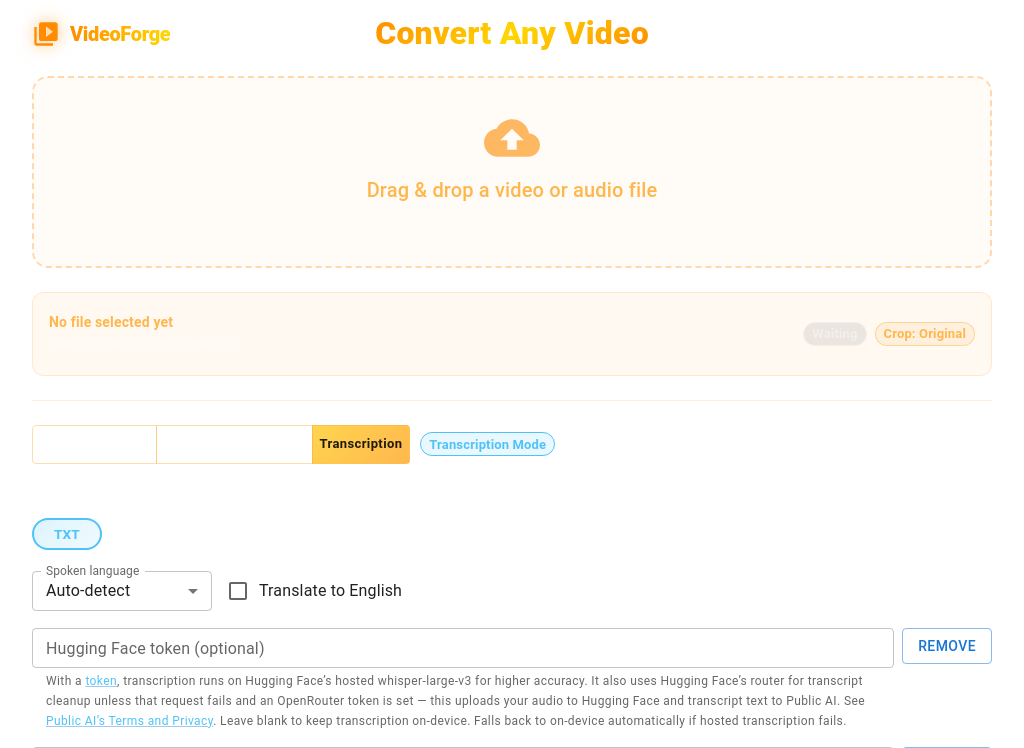
Test case: ConverterCard › transcription mode › activates a Hugging Face token only after the Add check succeeds
Type "hf_new" into the password field labelled "Hugging Face token (optional)" at (463, 648), box [32,628,894,668]
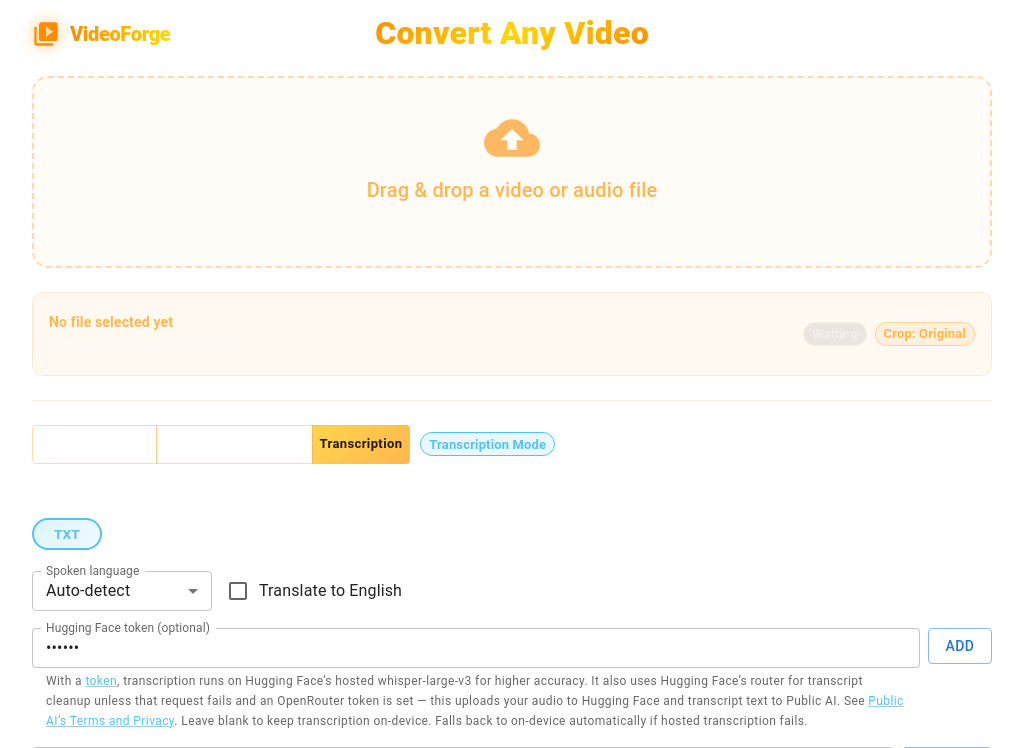
Click the button with test id "add-hf-token-button" at (960, 646), box [928,628,992,664]
(page scrolled)
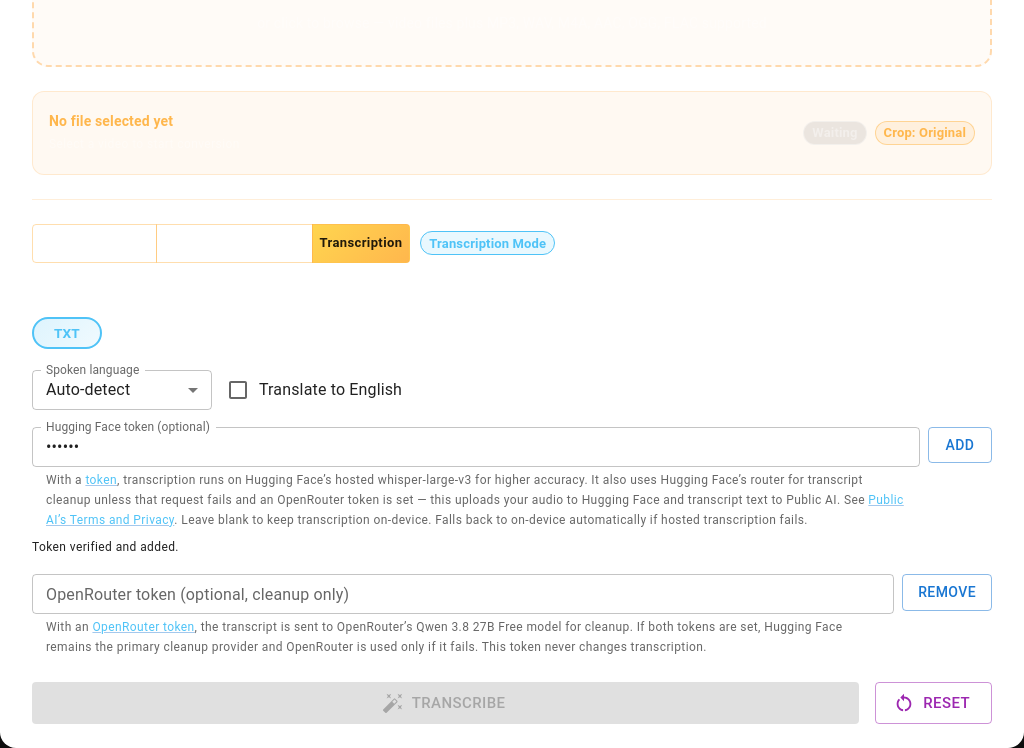
Now the text with test id "hf-token-status" shows "verified and added", box [32,540,179,554]
